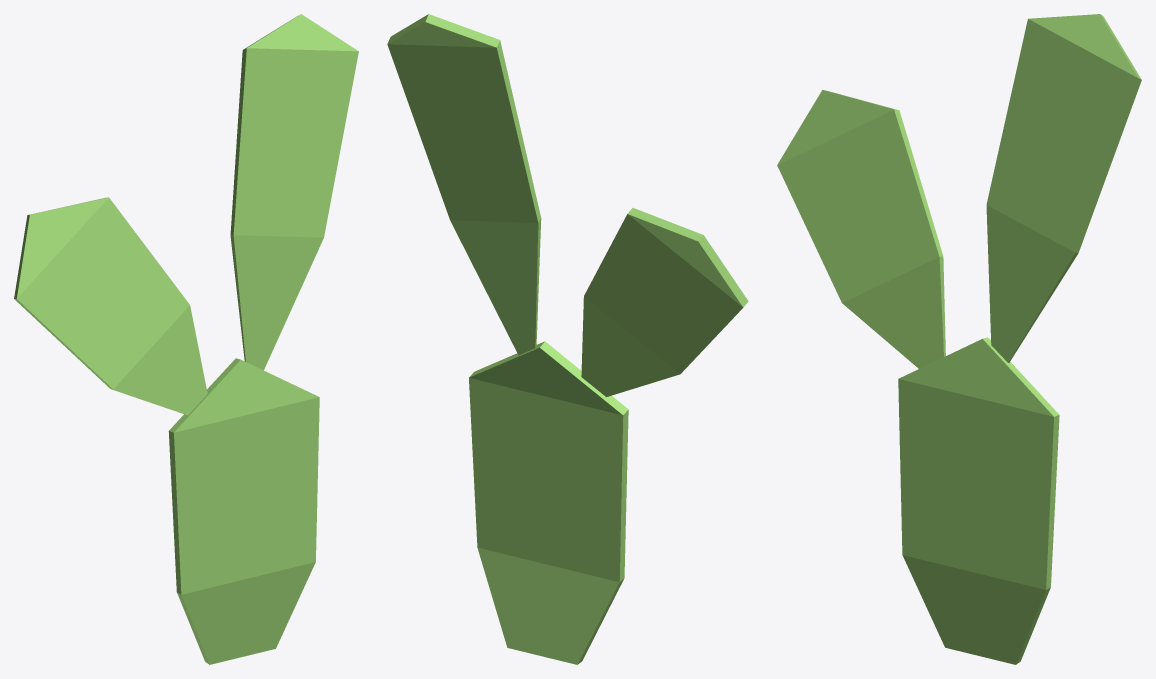
Rendered from Cactus_c_m_02.fbx.
The picture shows the model from 3 angles, left to right: view 1: azimuth 30°, elevation 25°; view 2: azimuth 150°, elevation 25°; view 3: azimuth 330°, elevation 25°; orthographic projection. The views are drawn at different scales.
Visible parts, largest first — view 1: Cactus_c_m_02; view 2: Cactus_c_m_02; view 3: Cactus_c_m_02.
Part boxes in pixels (x1=…): Cactus_c_m_02: x1=14, y1=14, x2=358, y2=664; Cactus_c_m_02: x1=387, y1=14, x2=748, y2=664; Cactus_c_m_02: x1=777, y1=14, x2=1141, y2=664.
Bounding box in the file's own units: 119 × 202 × 25.56.
